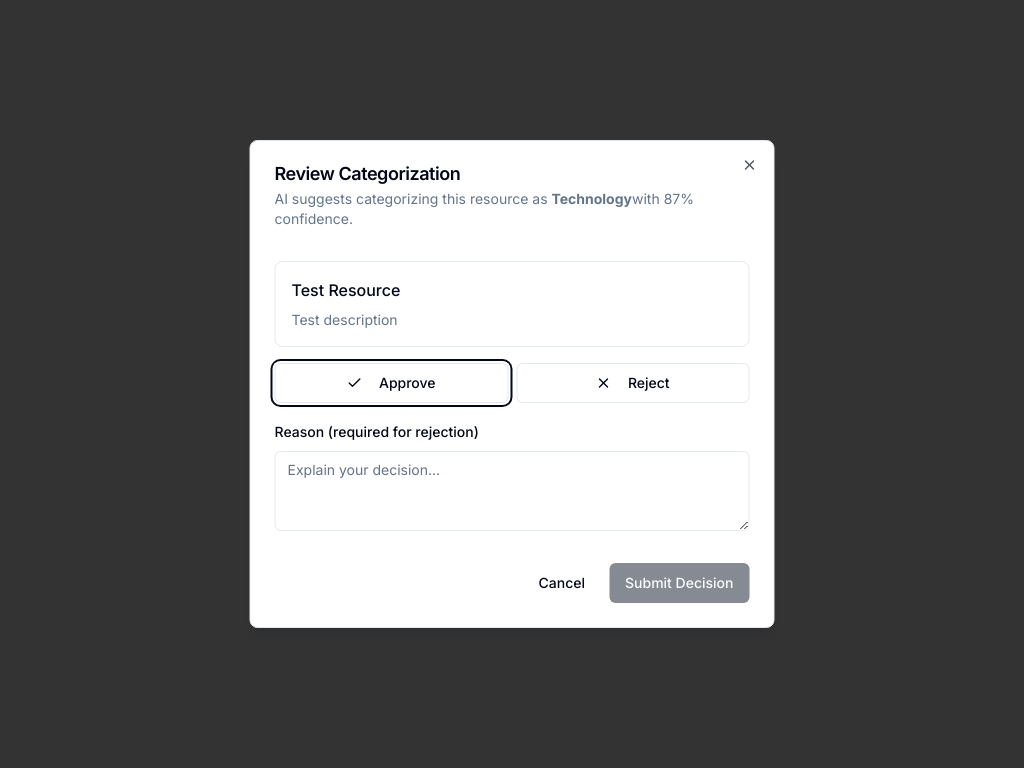
ApprovalDialog › requires reason for rejection
Click the button "Reject" at coordinates (633, 383), box [516,363,750,403]
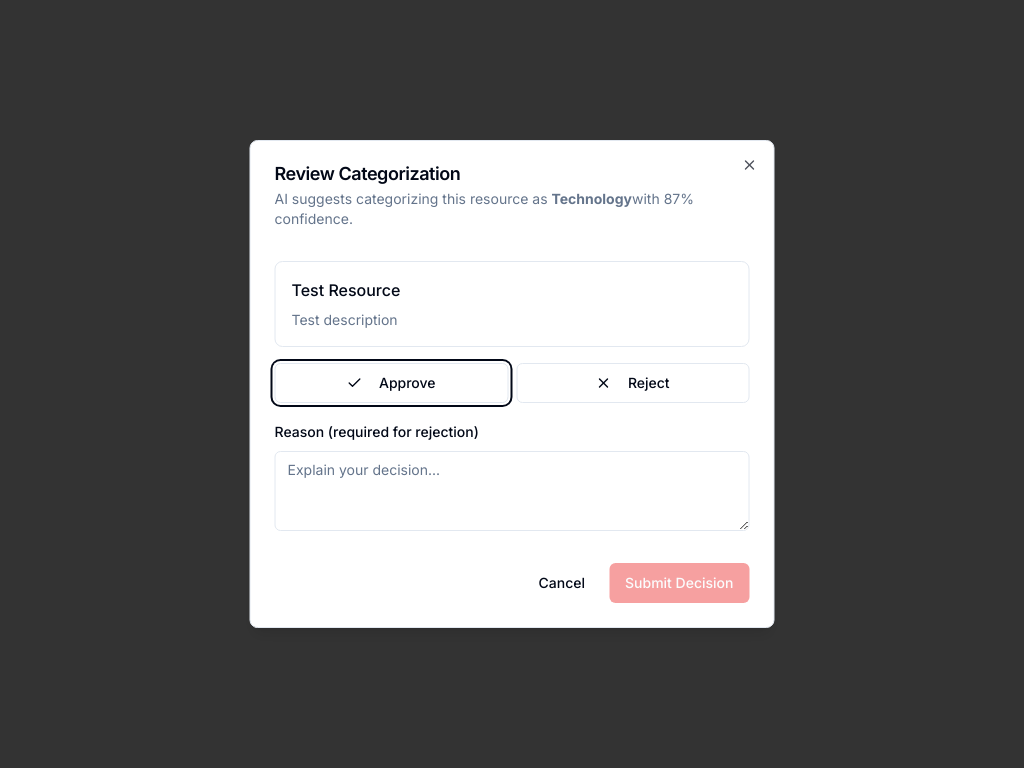
Expected: the button "Submit Decision" is disabled, [609,563,750,603]
Type "Wrong category" into the text box labelled "Reason (required for rejection)" at coordinates (512, 491), box [274,451,750,531]
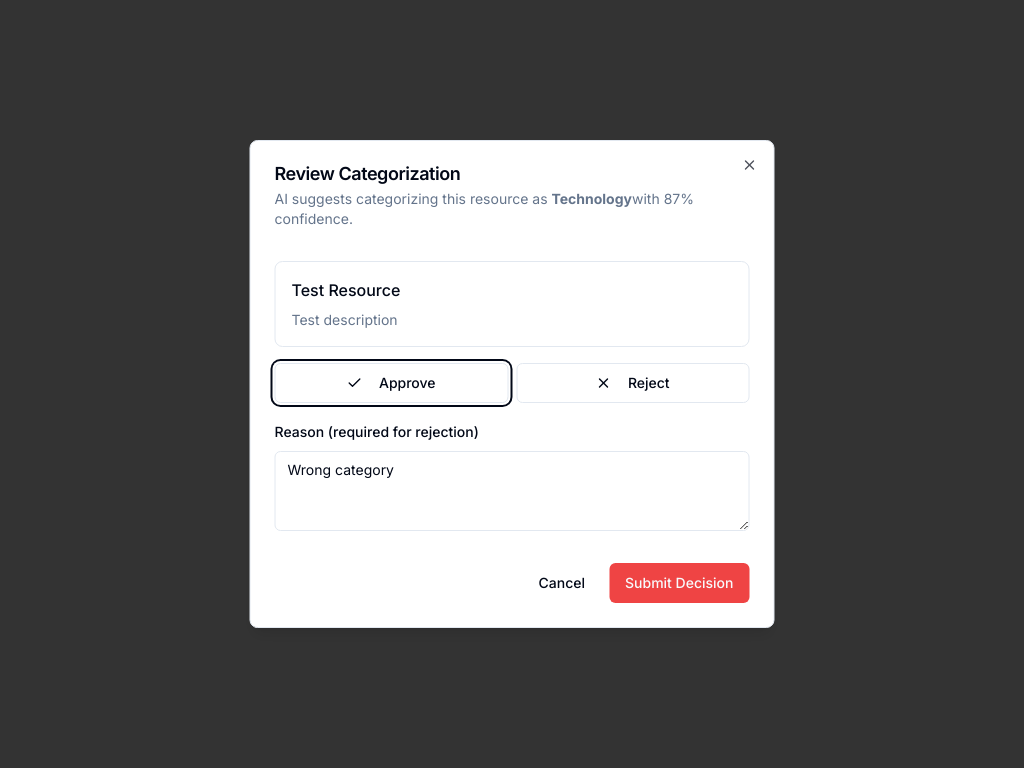
Result: the button "Submit Decision" is enabled at [609,563,750,603]
